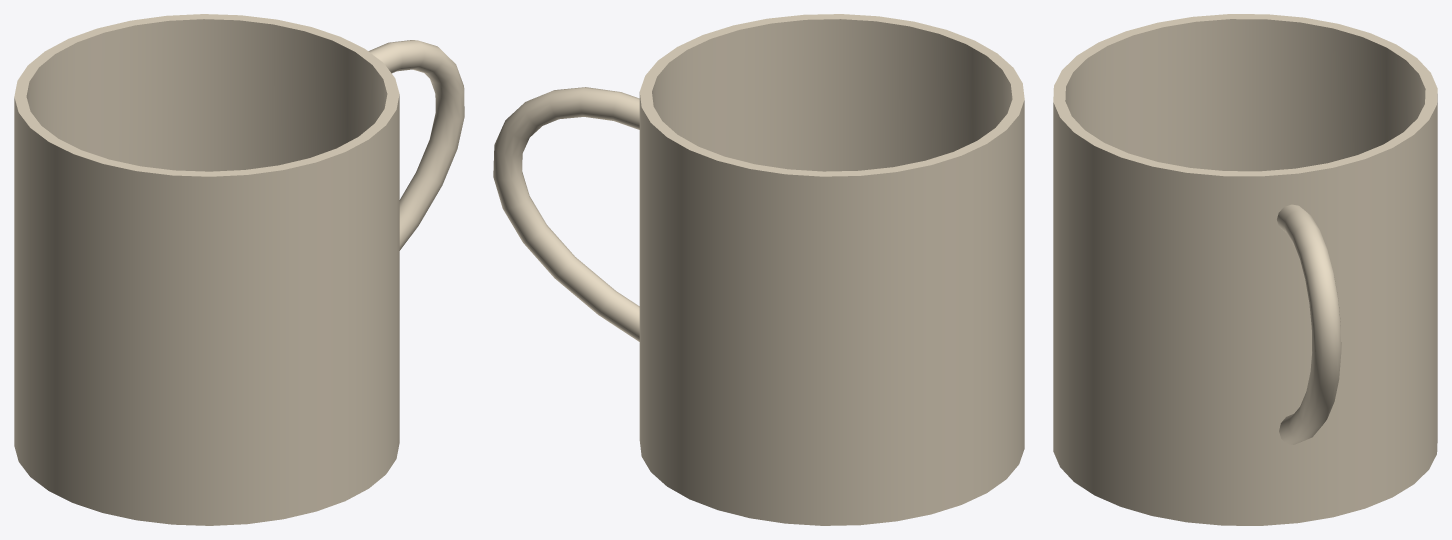
The model's file is gelas1.fbx.
3 views of the same model, side by side, from view 1: azimuth 30°, elevation 25°; view 2: azimuth 150°, elevation 25°; view 3: azimuth 270°, elevation 25° (orthographic).
Visible parts, largest first — view 1: Cylinder.129, BezierCurve.002; view 2: Cylinder.129, BezierCurve.002; view 3: Cylinder.129, BezierCurve.002.
Part boxes in pixels (x1=…): Cylinder.129: x1=14, y1=14, x2=399, y2=525; BezierCurve.002: x1=368, y1=40, x2=464, y2=250; Cylinder.129: x1=639, y1=14, x2=1024, y2=525; BezierCurve.002: x1=493, y1=87, x2=639, y2=341; Cylinder.129: x1=1053, y1=14, x2=1437, y2=525; BezierCurve.002: x1=1277, y1=204, x2=1341, y2=444.
Bounding box in the file's own units: 78.3 × 56.48 × 56.29.
